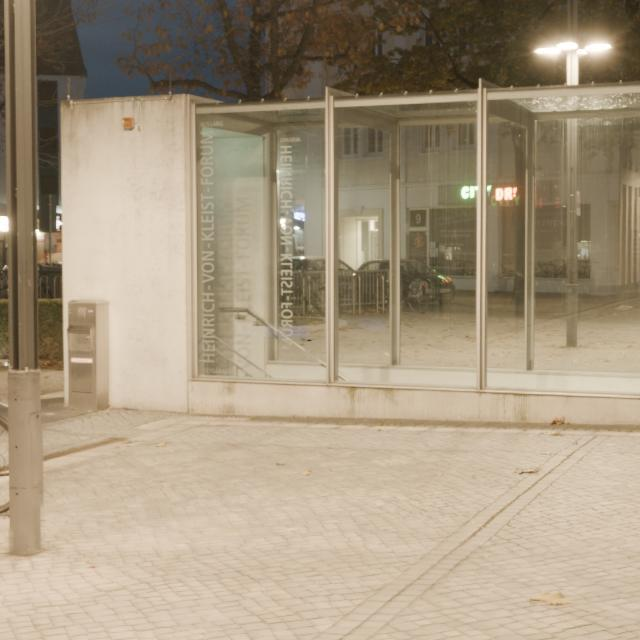Airaplan: (298, 337, 319, 341)
